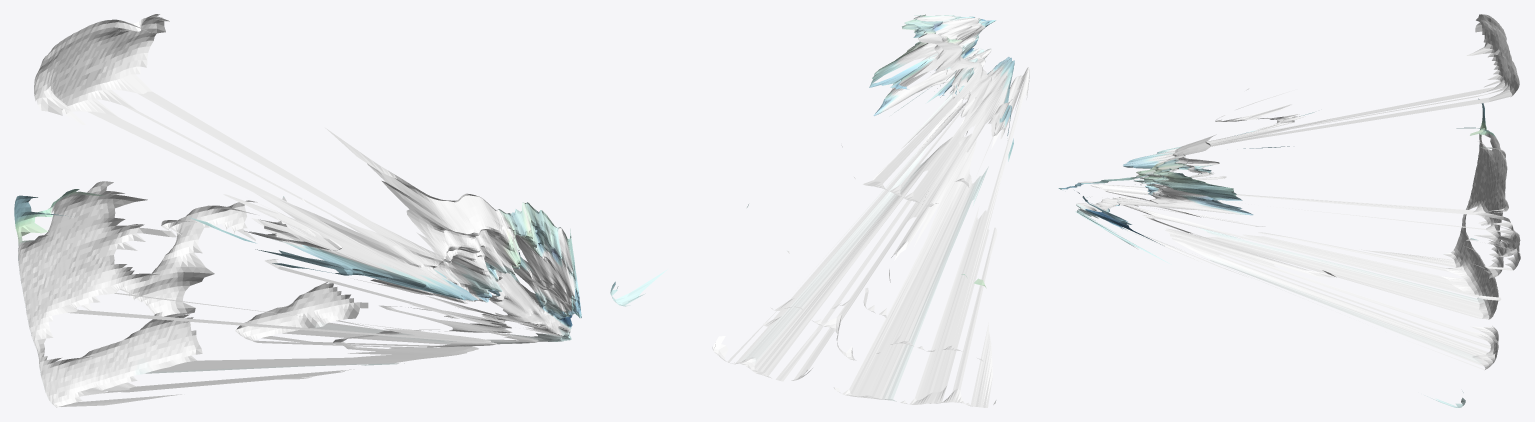
The picture shows the model from 3 angles, left to right: view 1: azimuth 30°, elevation 25°; view 2: azimuth 150°, elevation 25°; view 3: azimuth 270°, elevation 25°; orthographic projection. The views are drawn at different scales.
Visible parts, largest first — view 1: defaultobject; view 2: defaultobject; view 3: defaultobject.
Boxes of the visible parts, bbox=[...] form: defaultobject: bbox=[14, 14, 581, 407]; defaultobject: bbox=[610, 14, 1029, 407]; defaultobject: bbox=[1058, 14, 1520, 407].
Bounding box in the file's own units: 39.34 × 26.81 × 43.51.
Materials: 1 (1 with a texture image).
